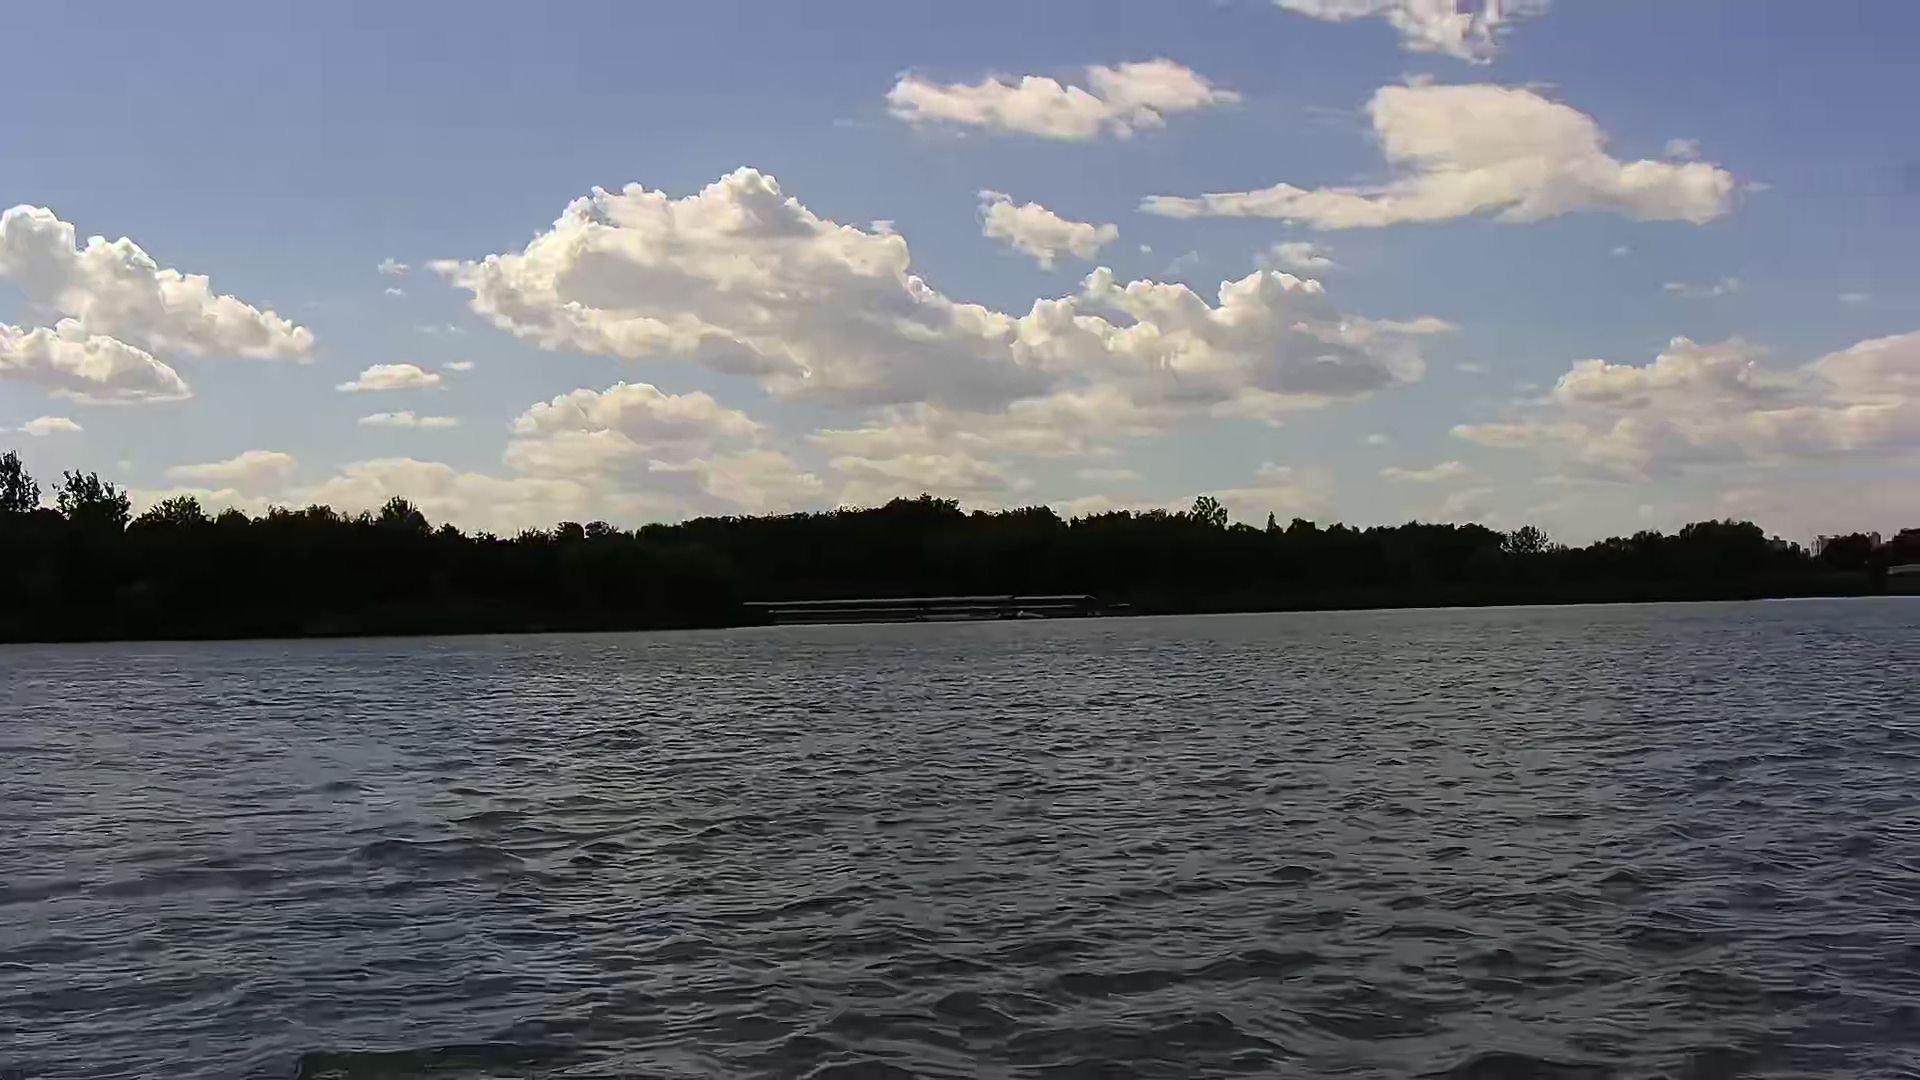bridge: (745, 597, 1088, 621)
